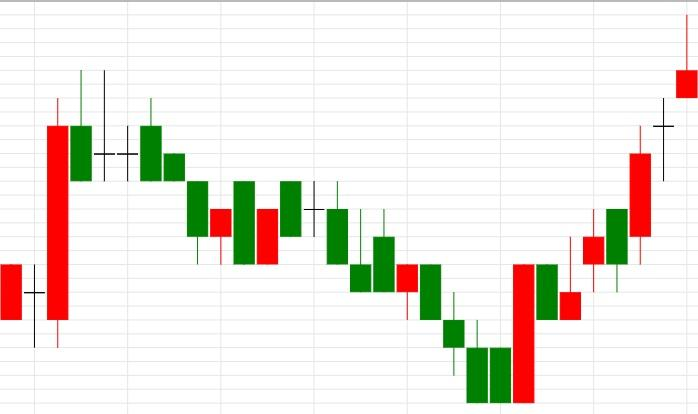bearish_engulfing_fall: (466, 209, 629, 403)
bullish_engulfing_rise: (279, 181, 535, 404)
